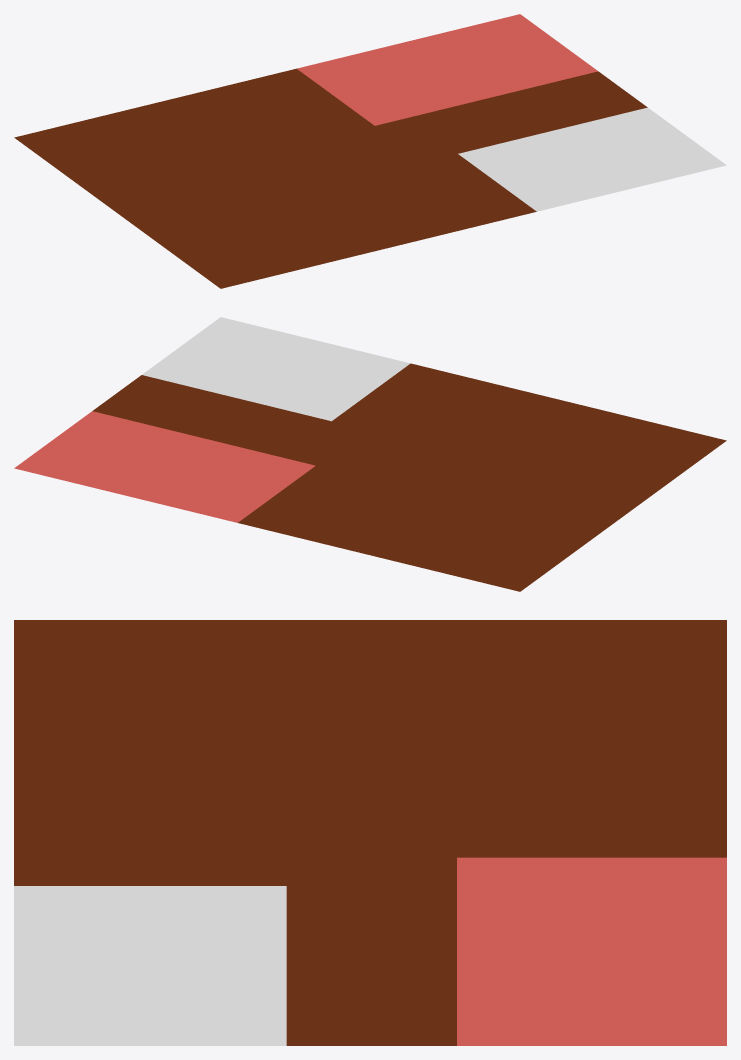
File: floor_ref.FBX
3 renders of one model, top to bottom at view 1: azimuth 30°, elevation 25°; view 2: azimuth 150°, elevation 25°; view 3: azimuth 270°, elevation 25°, orthographic. The views are drawn at different scales.
Parts seen in each view (by area): view 1: floor_ref; view 2: floor_ref; view 3: floor_ref.
Part boxes in pixels (left/top/right/bottom): floor_ref: left=14, top=14, right=726, bottom=288; floor_ref: left=14, top=317, right=726, bottom=591; floor_ref: left=14, top=620, right=726, bottom=1045.
Size of the model in its own units: 565 by 2.45e-14 by 400.
